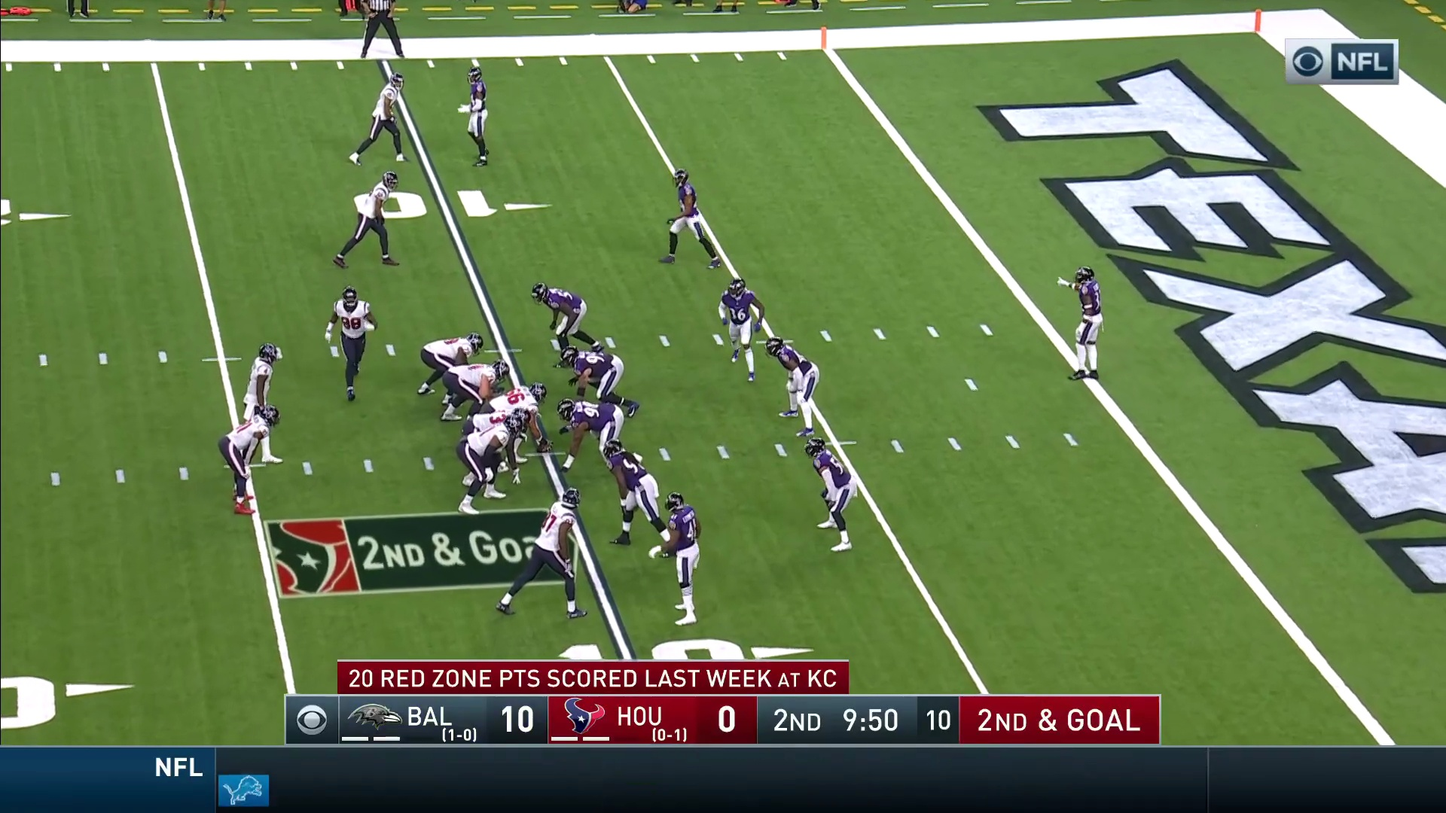Player: (465, 388, 539, 482), (218, 402, 278, 513), (457, 407, 517, 511), (239, 343, 281, 459), (719, 277, 763, 379), (558, 399, 625, 461), (557, 341, 623, 398), (443, 361, 505, 414), (1072, 266, 1101, 379)
